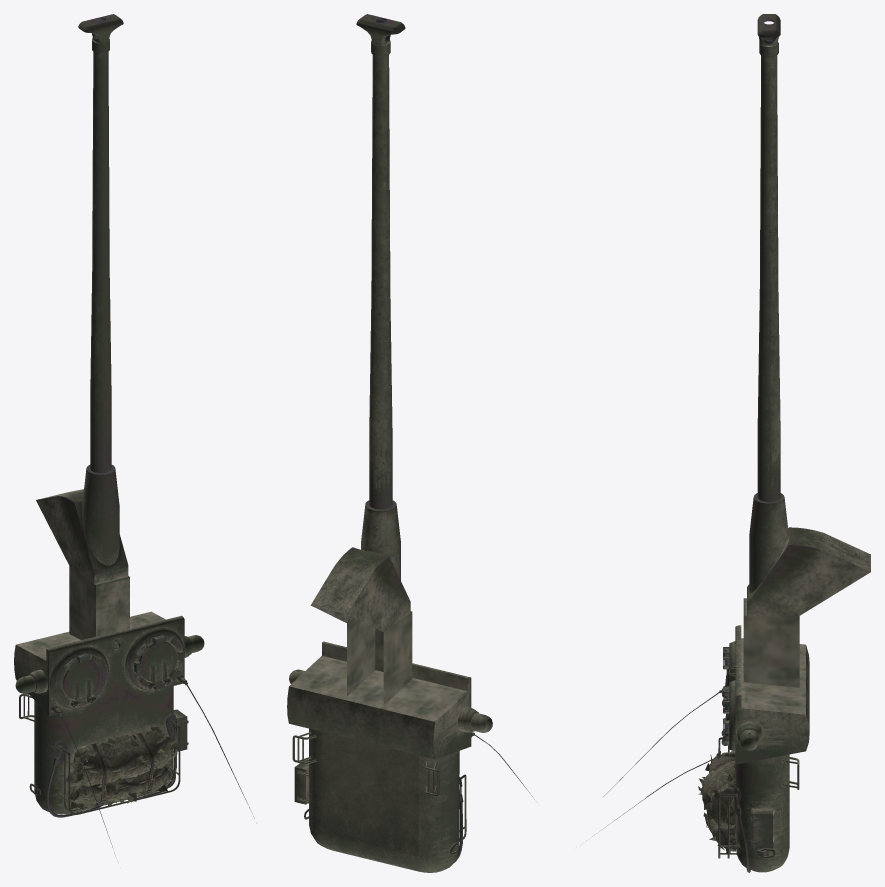
Rendered from Gun_01.glb.
3 renders of one model, left to right at view 1: azimuth 30°, elevation 25°; view 2: azimuth 150°, elevation 25°; view 3: azimuth 270°, elevation 25°, orthographic. The views are drawn at different scales.
Parts seen in each view (by area): view 1: set_0_group_0; view 2: set_0_group_0; view 3: set_0_group_0.
Part boxes in pixels (bbox=[...]): set_0_group_0: bbox=[14, 14, 254, 853]; set_0_group_0: bbox=[287, 14, 534, 872]; set_0_group_0: bbox=[592, 14, 870, 872].
Size of the model in its own units: 2.44 by 9.73 by 3.22.
1 material, 1 textured.
